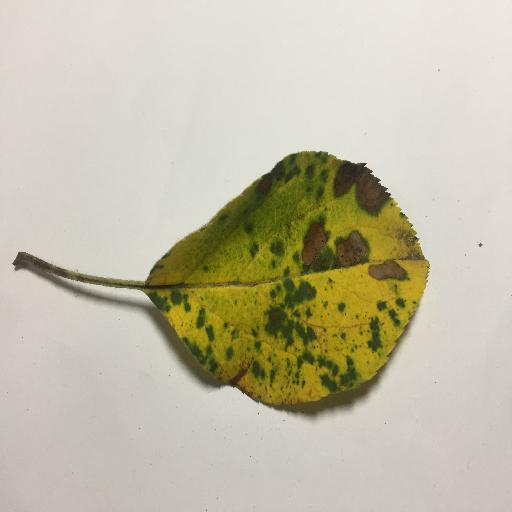Brown_Spot: (219, 364, 258, 396), (356, 165, 387, 205), (335, 240, 378, 268), (304, 226, 326, 262), (331, 168, 354, 197), (371, 266, 408, 281), (254, 180, 279, 191), (268, 305, 283, 319)
